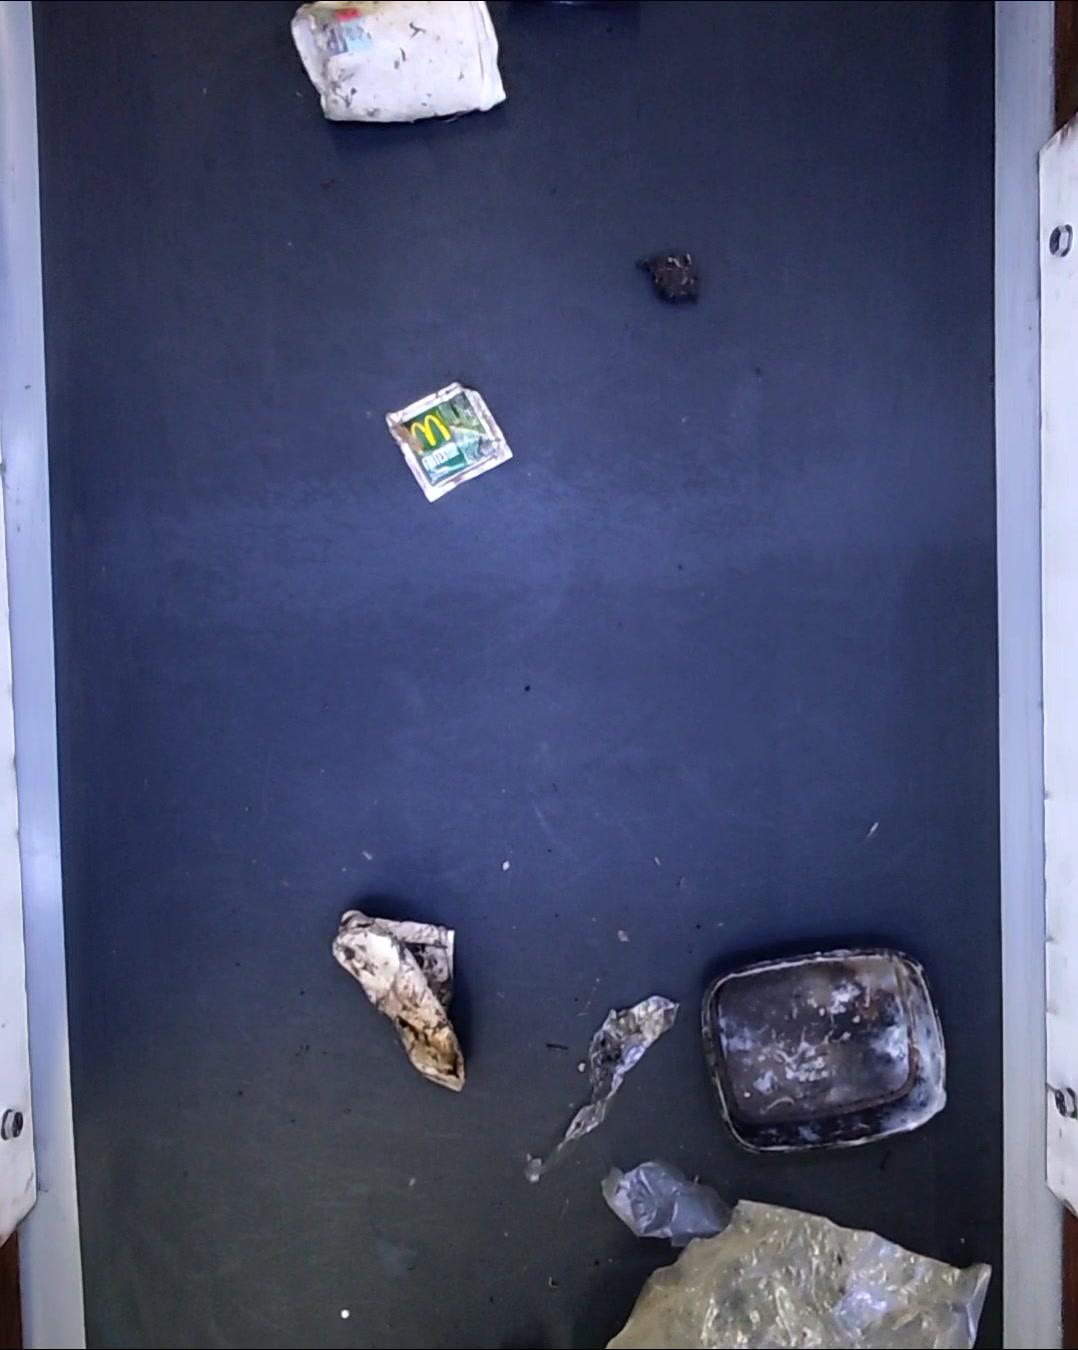Plastic folies of stukken daarvan 2.5- 50 cm: (609, 1196, 997, 1350), (532, 994, 681, 1173), (597, 1160, 738, 1244)
Voedselverpakkingen: (706, 942, 948, 1163), (384, 382, 509, 504)
